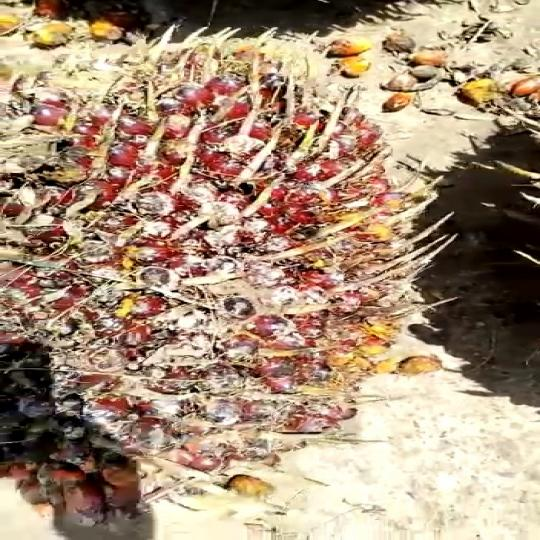masak: (0, 42, 431, 487)
